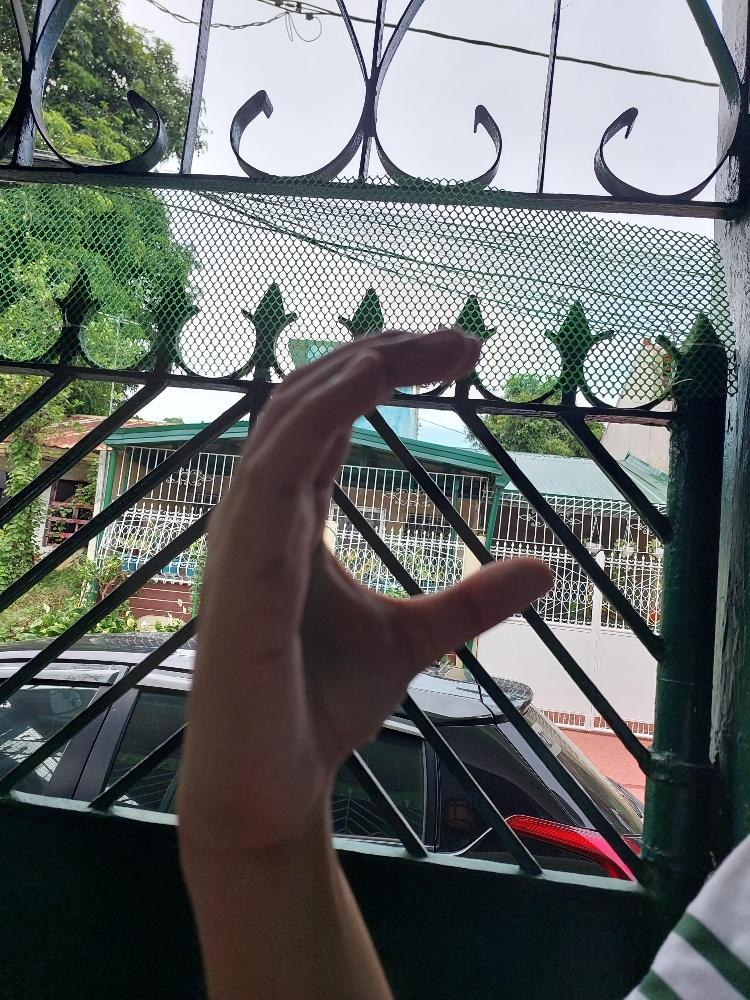c: (178, 319, 559, 853)
